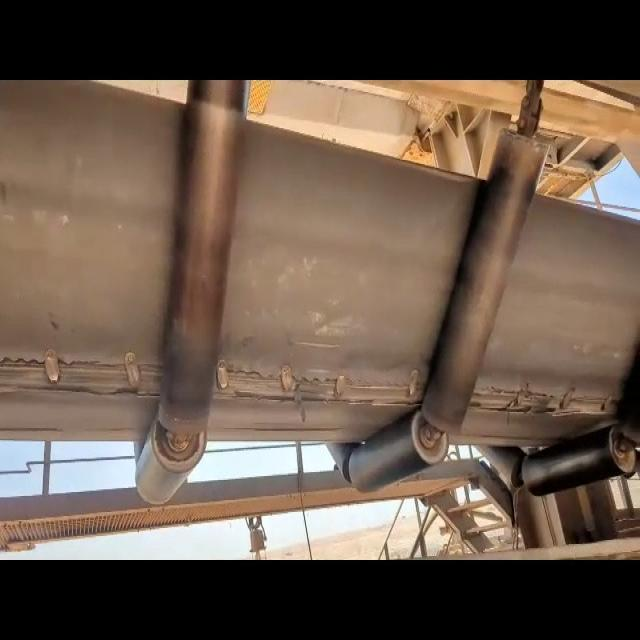Tear: (204, 357, 432, 413), (0, 345, 170, 403), (462, 374, 623, 419)
